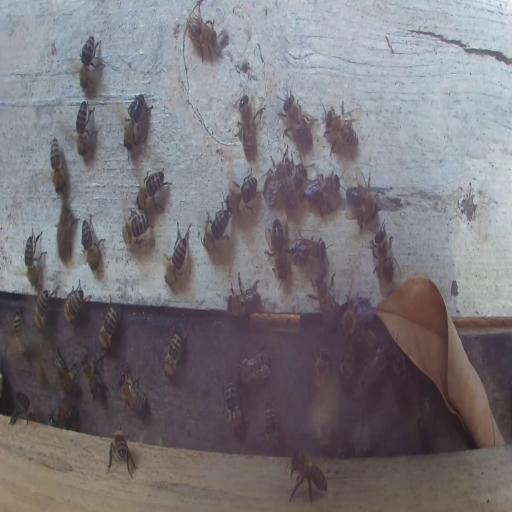nonpollenbee: (185, 5, 225, 64), (287, 448, 328, 504), (370, 216, 400, 286), (345, 172, 381, 230), (322, 102, 359, 156), (164, 220, 192, 288), (284, 92, 314, 147), (106, 428, 138, 479), (136, 167, 172, 212), (123, 92, 150, 152), (266, 213, 289, 282), (226, 270, 259, 318), (202, 197, 231, 251), (288, 232, 328, 270), (78, 34, 104, 92), (314, 273, 340, 330), (119, 368, 149, 417), (74, 99, 97, 162), (80, 350, 107, 403), (80, 215, 104, 274), (239, 98, 261, 162), (24, 227, 46, 289), (282, 160, 308, 212), (56, 203, 78, 262), (360, 342, 388, 388), (97, 297, 121, 350), (305, 171, 343, 204), (264, 154, 289, 204), (307, 347, 331, 398), (62, 279, 89, 324), (223, 378, 243, 438), (160, 328, 183, 379), (222, 176, 258, 208), (388, 344, 412, 392), (53, 348, 78, 394), (122, 210, 152, 248), (341, 295, 371, 333), (338, 333, 359, 387), (237, 350, 271, 380), (49, 136, 65, 194), (10, 391, 34, 424), (33, 288, 51, 330), (14, 308, 28, 356), (265, 399, 278, 447)
pollenbee: (57, 405, 78, 432)
